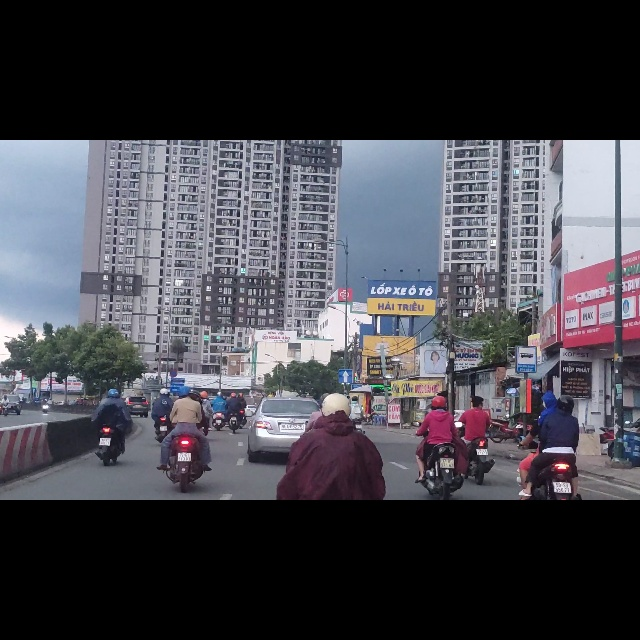bien_chi_dan: (516, 365, 536, 413), (338, 407, 353, 432)
